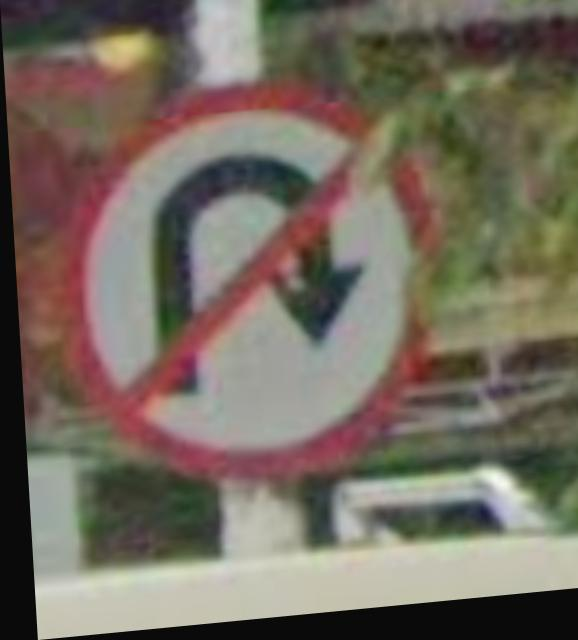not_u_turn_right: (62, 71, 477, 503)
